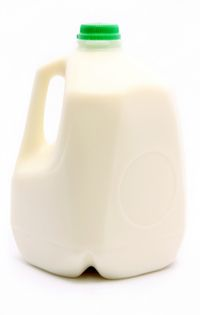Rec_Plastic: (8, 14, 192, 289)
